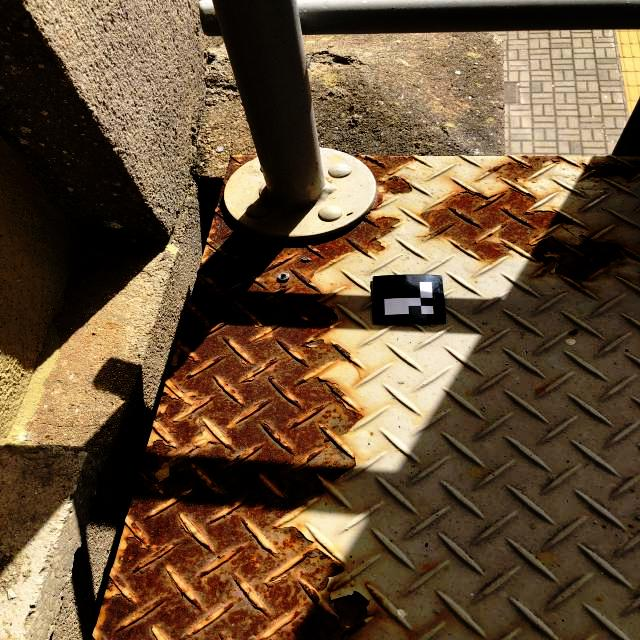Corrosion: (92, 154, 415, 640), (412, 185, 640, 291), (482, 156, 568, 187), (579, 157, 640, 184), (617, 181, 620, 184)
